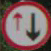Two way: (11, 2, 45, 46)
